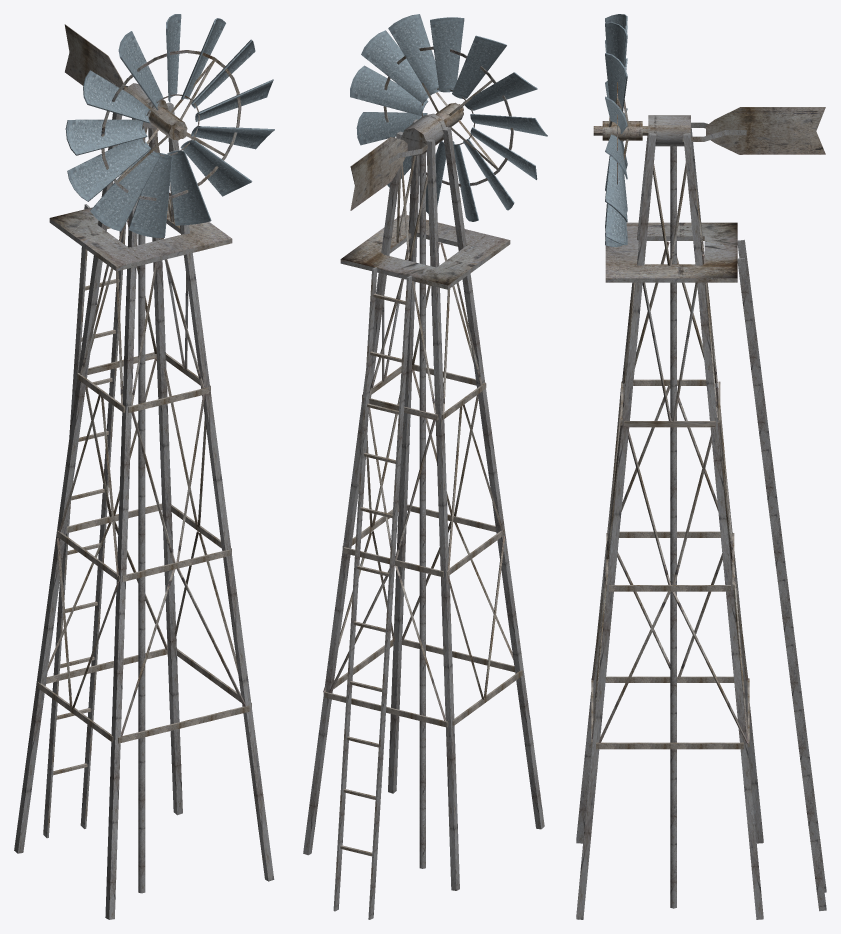
3 renders of one model, left to right at view 1: azimuth 30°, elevation 25°; view 2: azimuth 150°, elevation 25°; view 3: azimuth 270°, elevation 25°, orthographic. The views are drawn at different scales.
Parts seen in each view (by area): view 1: body, rotor; view 2: body, rotor; view 3: body, rotor.
Boxes of the visible parts, x1,y1,x2,y2 form: body: (14,24,274,919); rotor: (65,14,274,237); body: (303,113,544,919); rotor: (350,14,547,221); body: (576,107,826,919); rotor: (593,14,648,246).
Size of the model in its own units: 3.23 by 13.47 by 3.47.
Materials: 3 (3 with a texture image).
